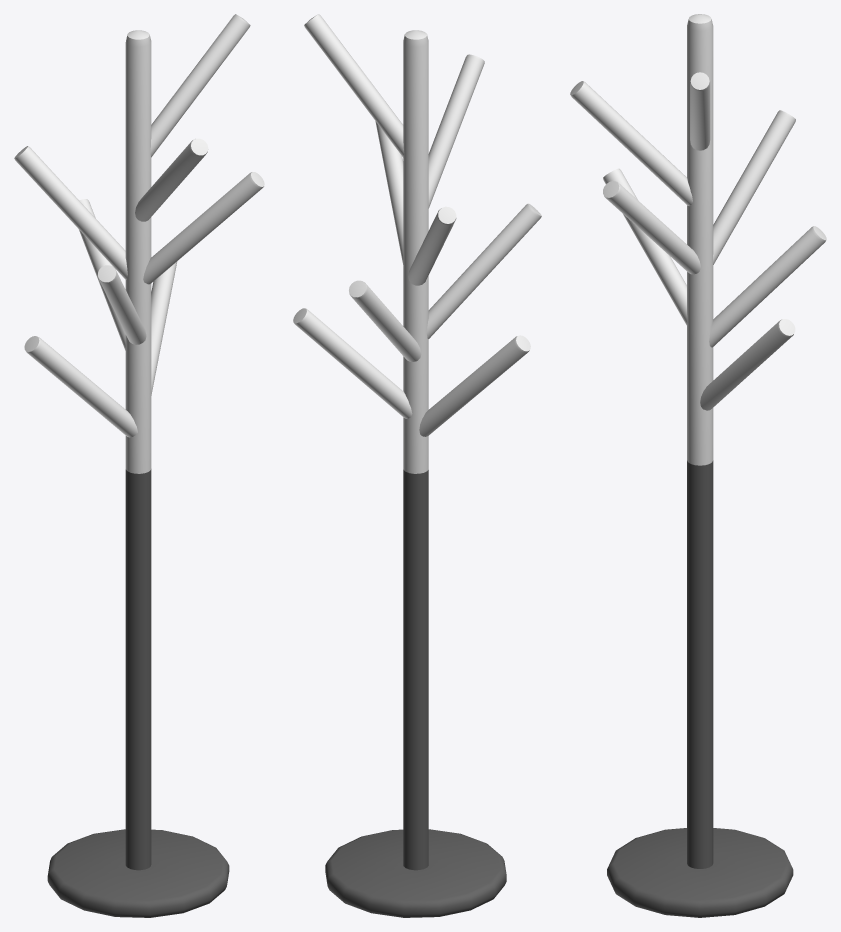
Rendered from Coat Rack04.fbx.
The picture shows the model from 3 angles, left to right: view 1: azimuth 30°, elevation 25°; view 2: azimuth 150°, elevation 25°; view 3: azimuth 270°, elevation 25°; orthographic projection.
Visible parts, largest first — view 1: Coat Rack04; view 2: Coat Rack04; view 3: Coat Rack04.
Part boxes in pixels (x1,y1,x2,y2): Coat Rack04: (14,14,264,917); Coat Rack04: (293,14,541,917); Coat Rack04: (570,14,826,917).
Size of the model in its own units: 0.2234 by 0.2186 by 0.8137.
